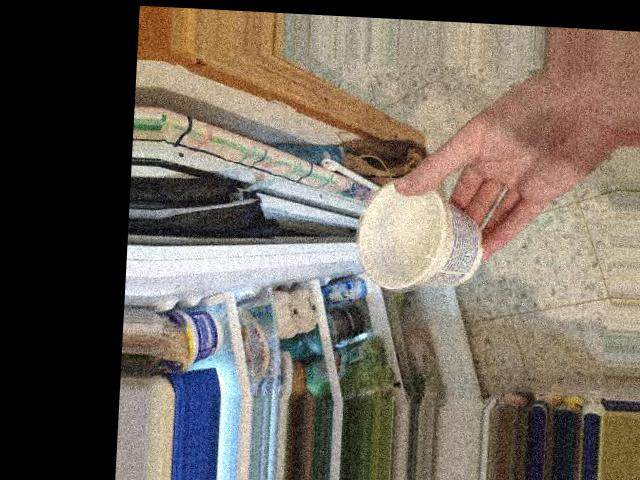cotage: (362, 182, 487, 287)
